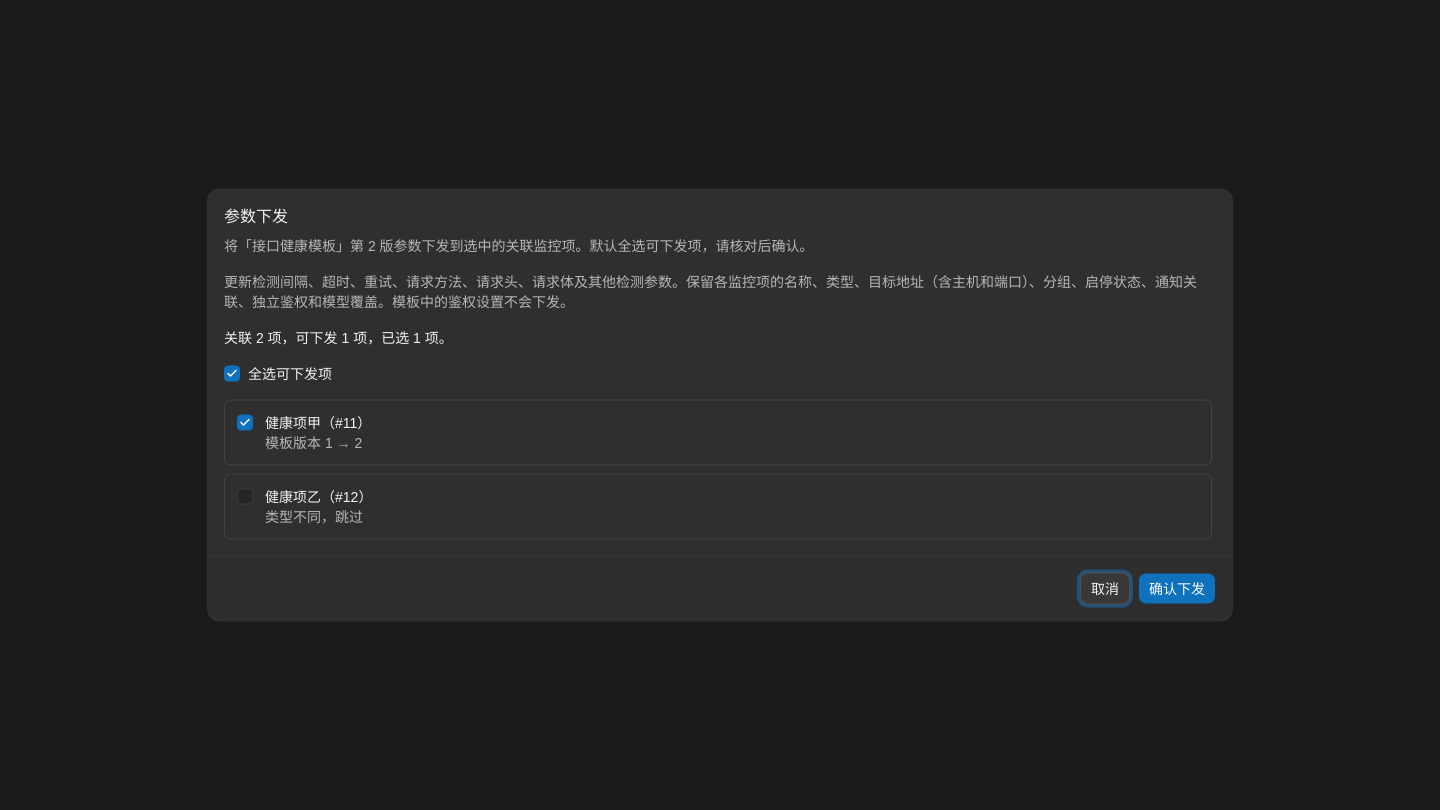
Test: 取消全选后禁止下发，再次全选恢复可下发项
The width and height of the screenshot is (1440, 810).
Click the checkbox named "全选可下发项" at (232, 374), box [224,366,240,382]
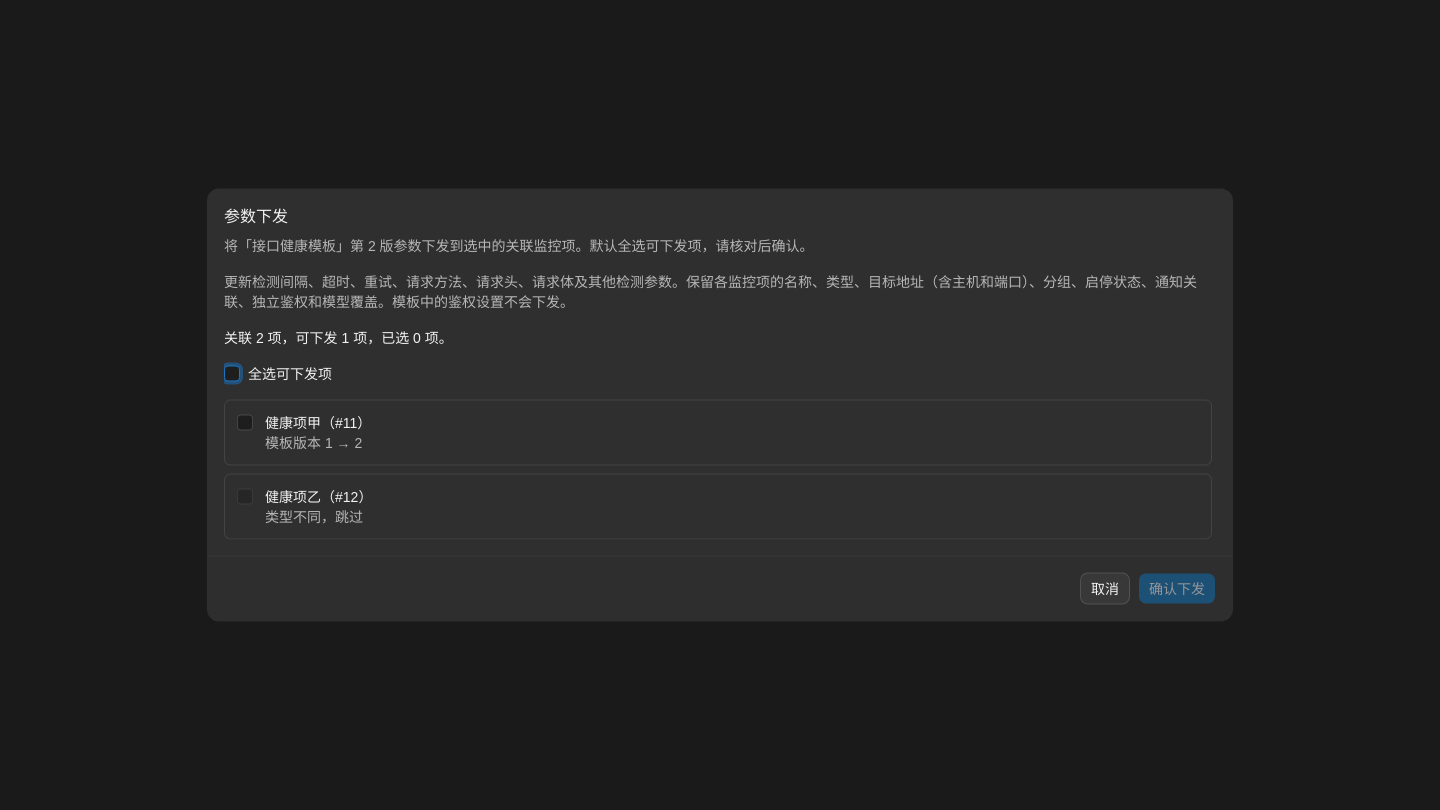
Check: the button "确认下发" is disabled, box [1138,572,1216,604]
Check: the text "关联 2 项，可下发 1 项，已选 0 项。" is shown, box [224,330,453,346]
Click the checkbox named "全选可下发项" at (232, 374), box [224,366,240,382]
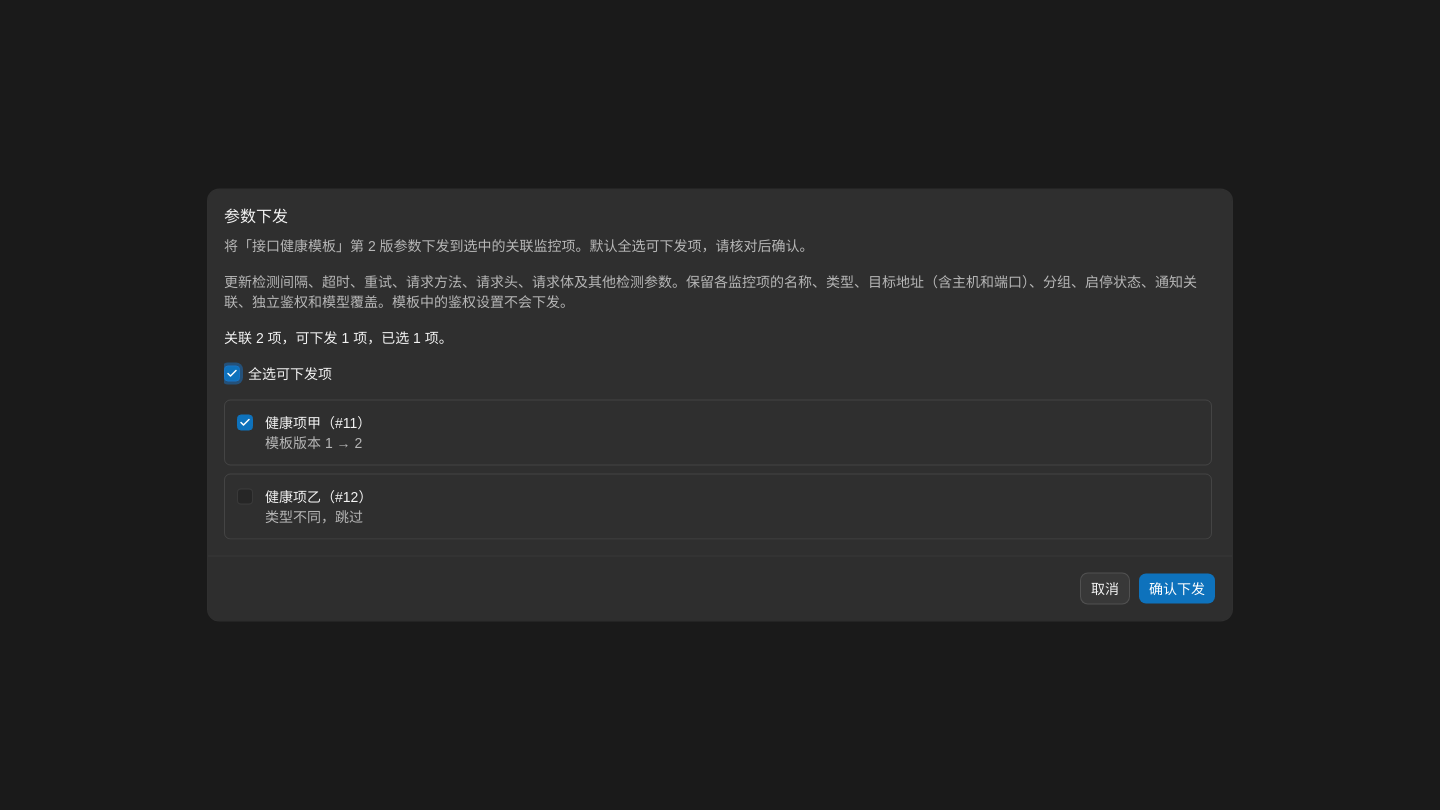
Check: the checkbox named "选择 健康项甲（#11）" next to "健康项甲" is checked, box [237,414,253,430]
Check: the button "确认下发" is enabled, box [1138,572,1216,604]
